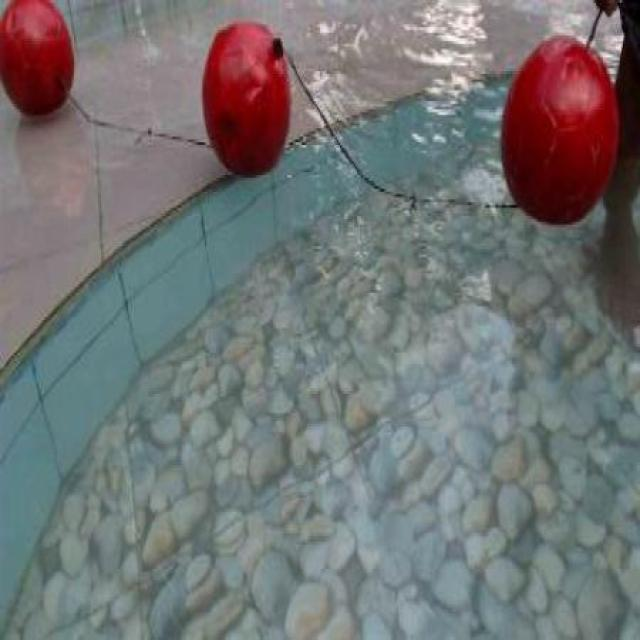buoy: (500, 36, 616, 228), (201, 20, 291, 176), (0, 0, 74, 115)
